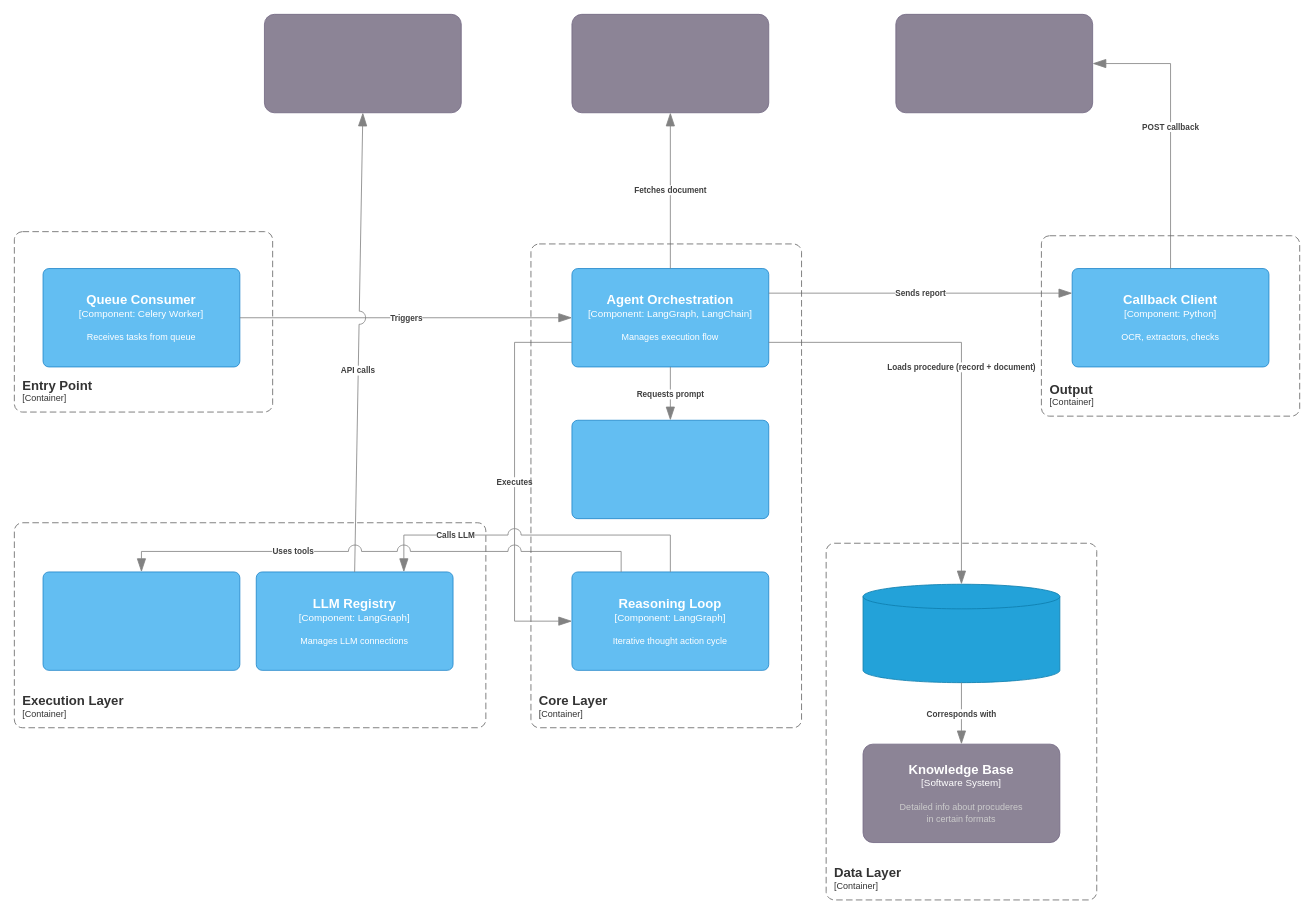
This 1314x914 diagram has some shape labels left out. Here are the shapes that lost their labels. From the top down, the centre of each, then its label:
point (362, 63): LLM Provider [Software System] OpenAI
point (670, 63): Object Storage [Software System] S3/MinIO
point (994, 63): Backend API [Software System] Django Service
point (670, 469): Prompt Builder [Component: Python] Composes LLM prompts
point (141, 620): Tool Set [Component: Python] OCR, extractors, checks
point (961, 633): Procedure Database [Container: SQLite] Stores data only about the procedures
